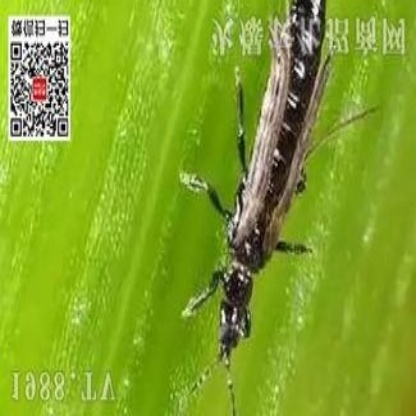Thrips: (207, 0, 329, 350)
